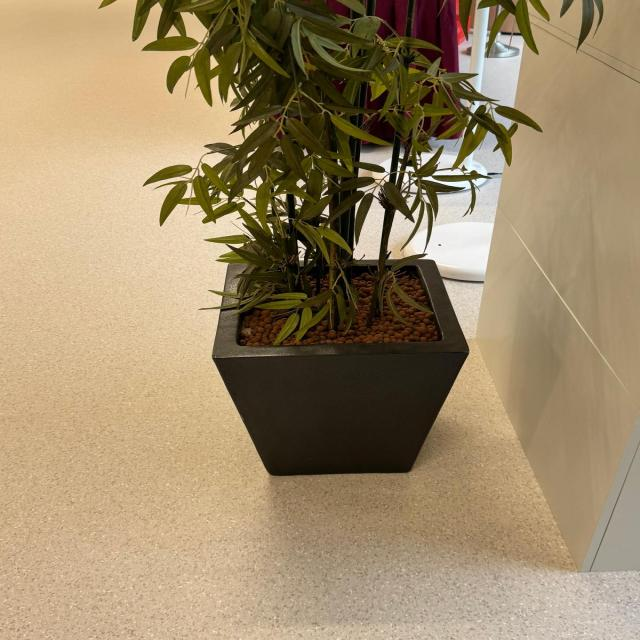Pot: (210, 259, 470, 478)
